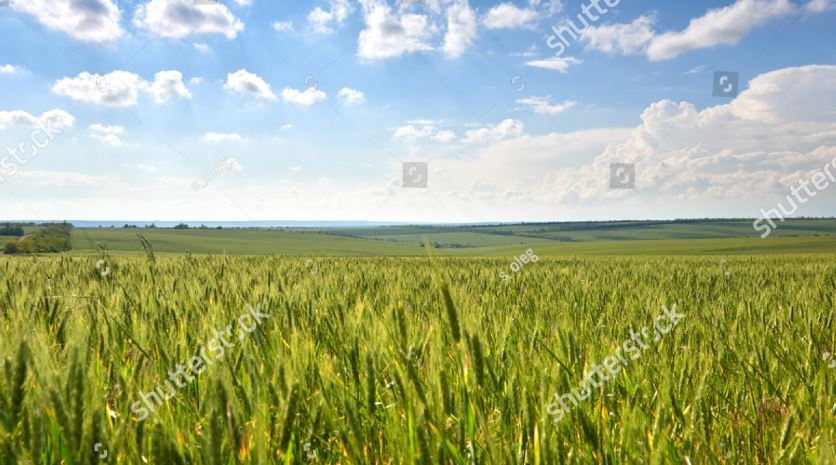Wheat: (243, 276, 755, 442)
